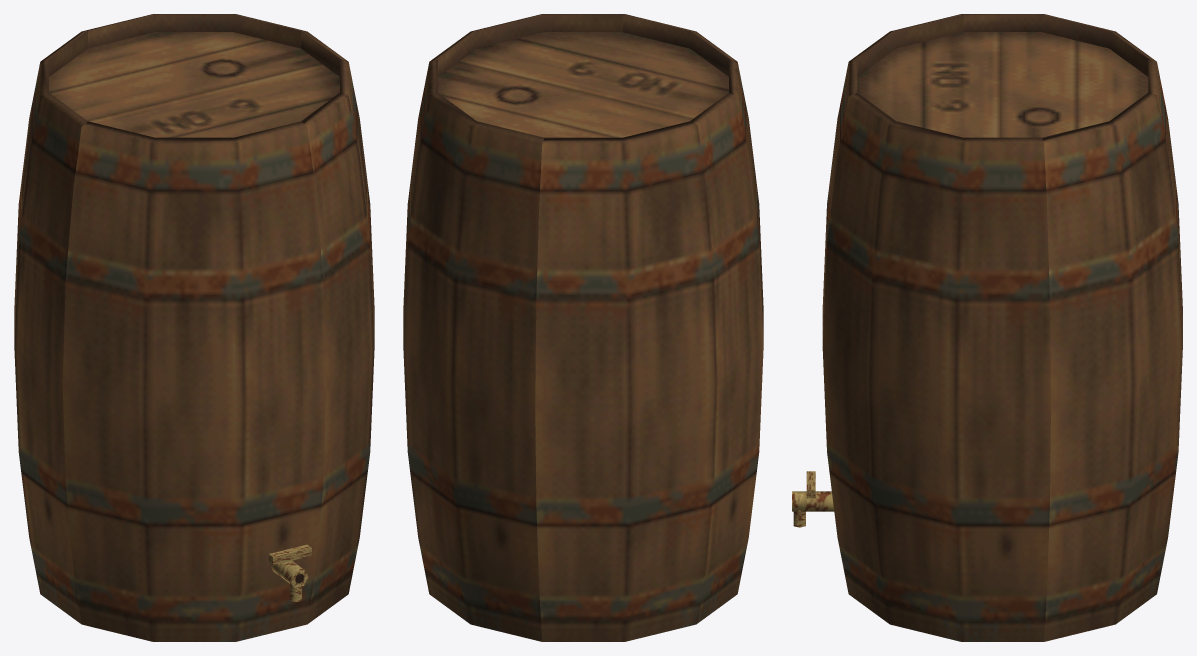
File: barrel_wood.obj
3 views of the same model, side by side, from view 1: azimuth 30°, elevation 25°; view 2: azimuth 150°, elevation 25°; view 3: azimuth 270°, elevation 25° (orthographic).
Parts seen in each view (by area): view 1: barrel_wood; view 2: barrel_wood; view 3: barrel_wood.
Boxes of the visible parts, box(x1,y1,x2,y2) form: barrel_wood: box(14, 14, 374, 641); barrel_wood: box(403, 14, 763, 641); barrel_wood: box(792, 14, 1182, 641).
Size of the model in its own units: 0.5641 by 0.865 by 0.6121.
Materials: 1 (1 with a texture image).
